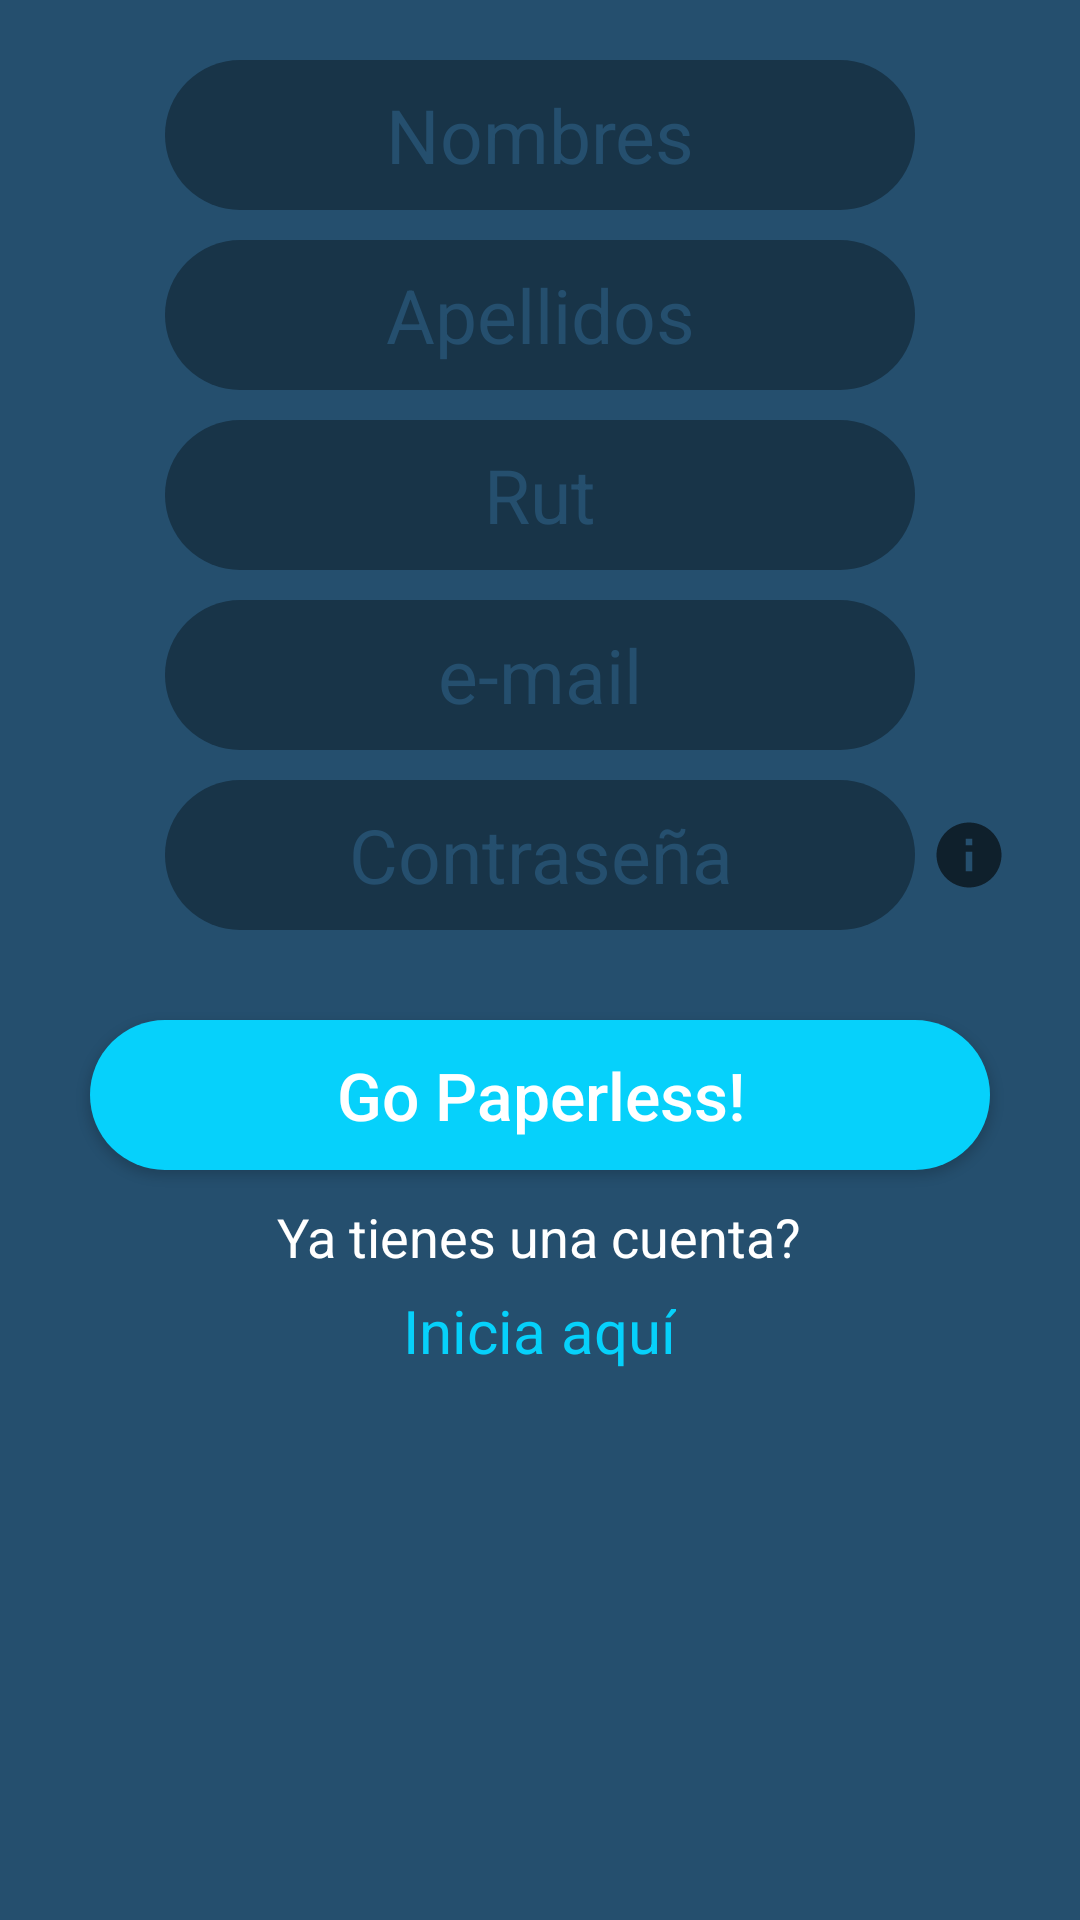

Icons on this 1080w x 1920h Android screen, each with its box as (x1, y1, x2, y2):
ayuda para conocer requisitos de la contrasena: (936, 822, 1002, 888)
